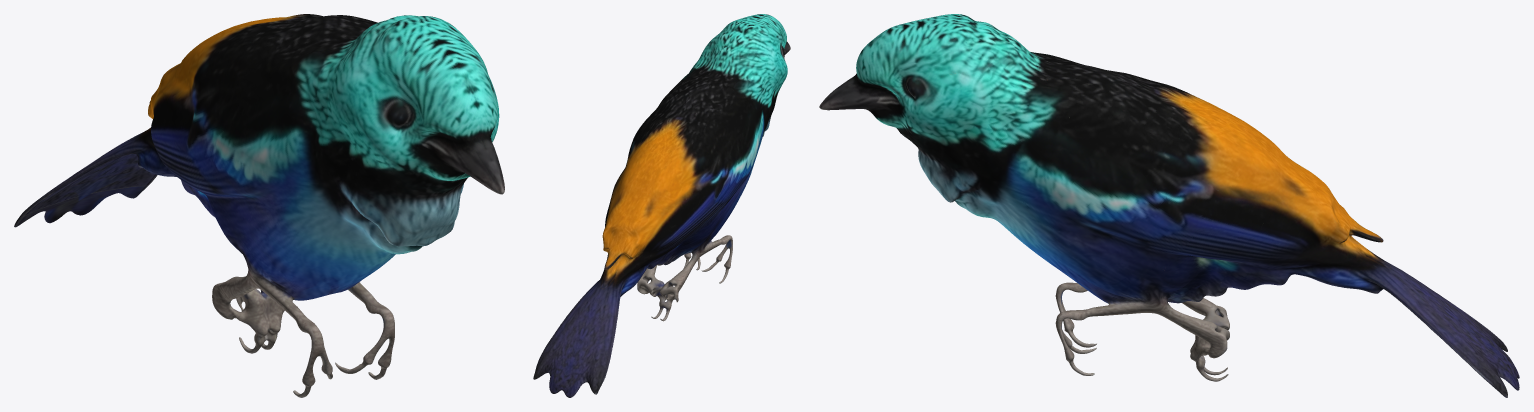
File: Sairapintor.glb
3 views of the same model, side by side, from view 1: azimuth 30°, elevation 25°; view 2: azimuth 150°, elevation 25°; view 3: azimuth 270°, elevation 25° (orthographic). The views are drawn at different scales.
Bounding box in the file's own units: 0.4736 × 1.09 × 1.9.
Materials: 1 (1 with a texture image).
